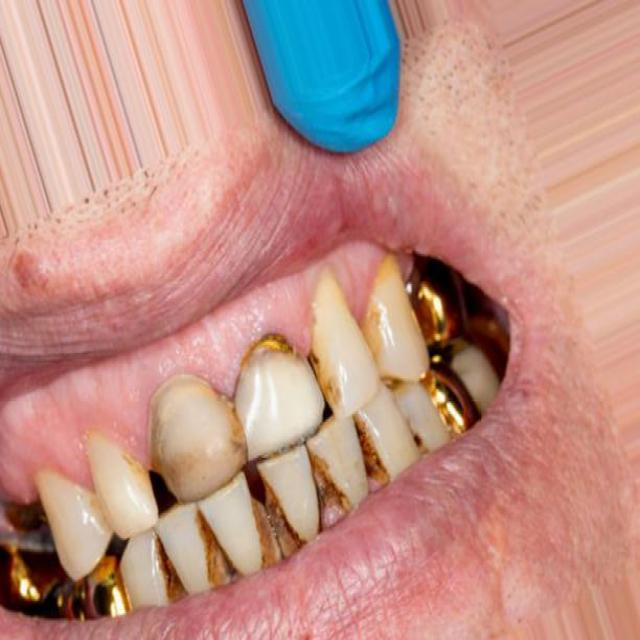caries: (358, 299, 404, 378)
